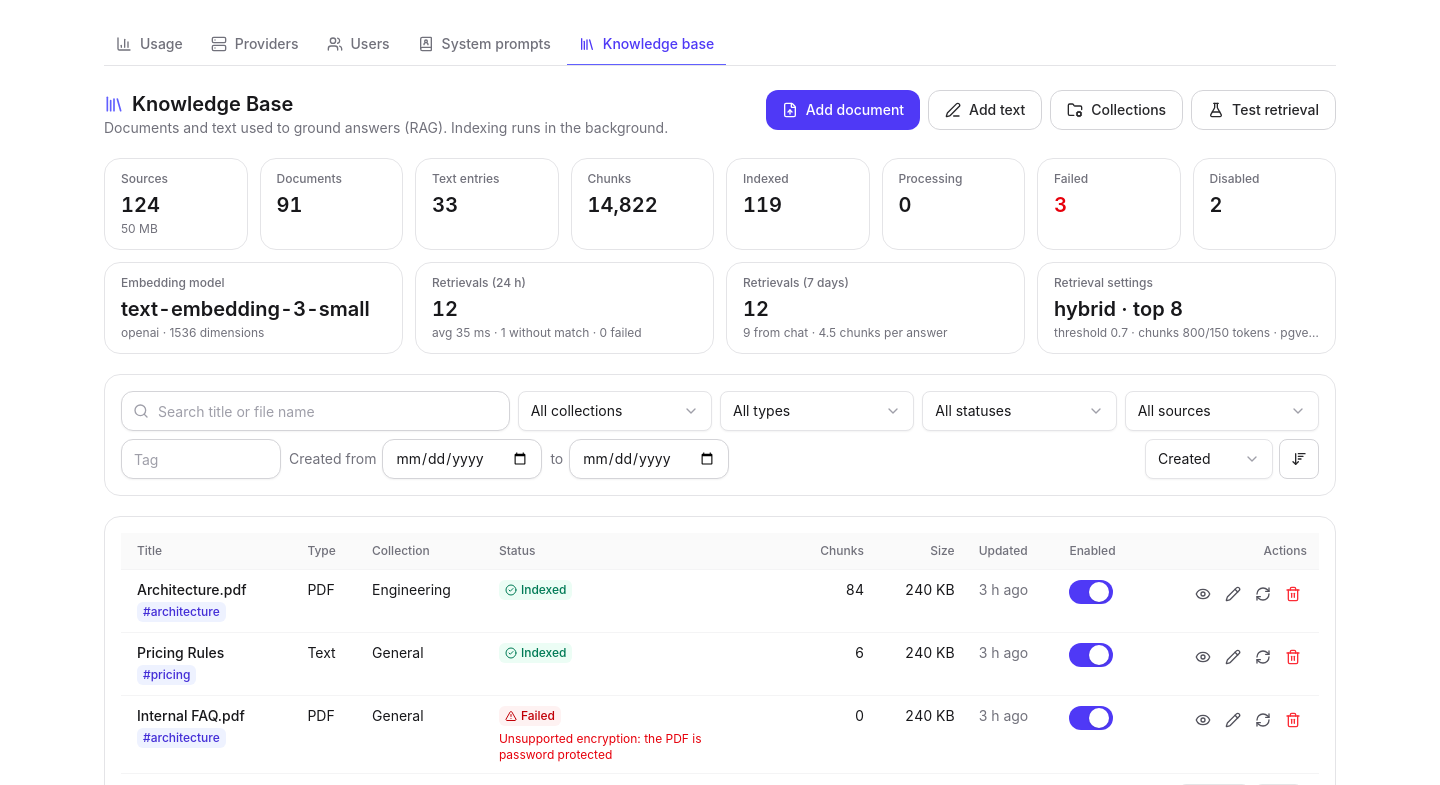
Test: KnowledgePage › asks for confirmation and shows what will be removed before deleting
The image size is (1440, 785).
Click the button named "Delete Architecture.pdf". click: [1293, 594]
box: [1279,580,1307,608]
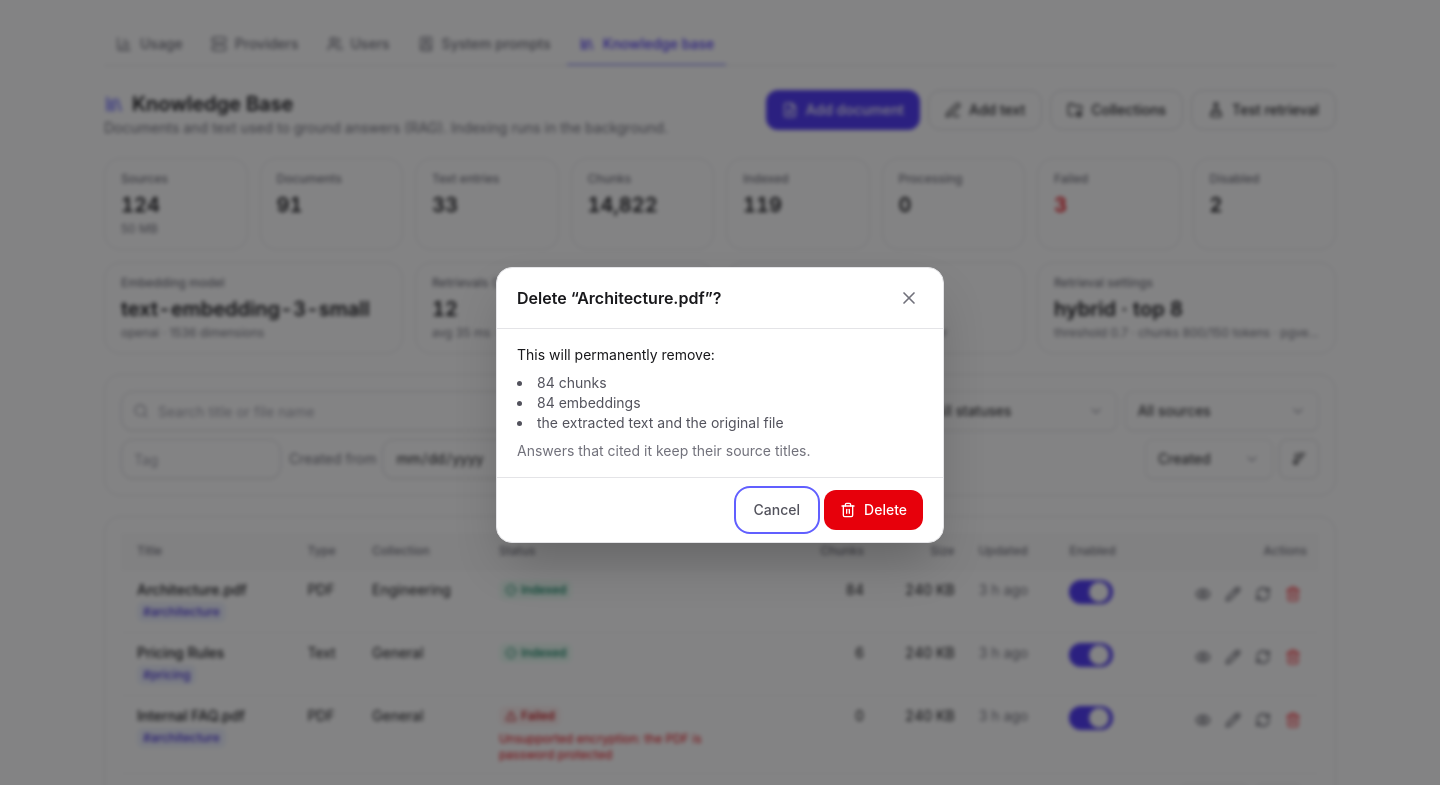
Result: the list item "84 chunks" is shown at [537,374,606,391]
Result: the list item "84 embeddings" is shown at [537,394,641,411]
Click the button "Cancel". click: [777, 510]
box: [738,490,816,530]
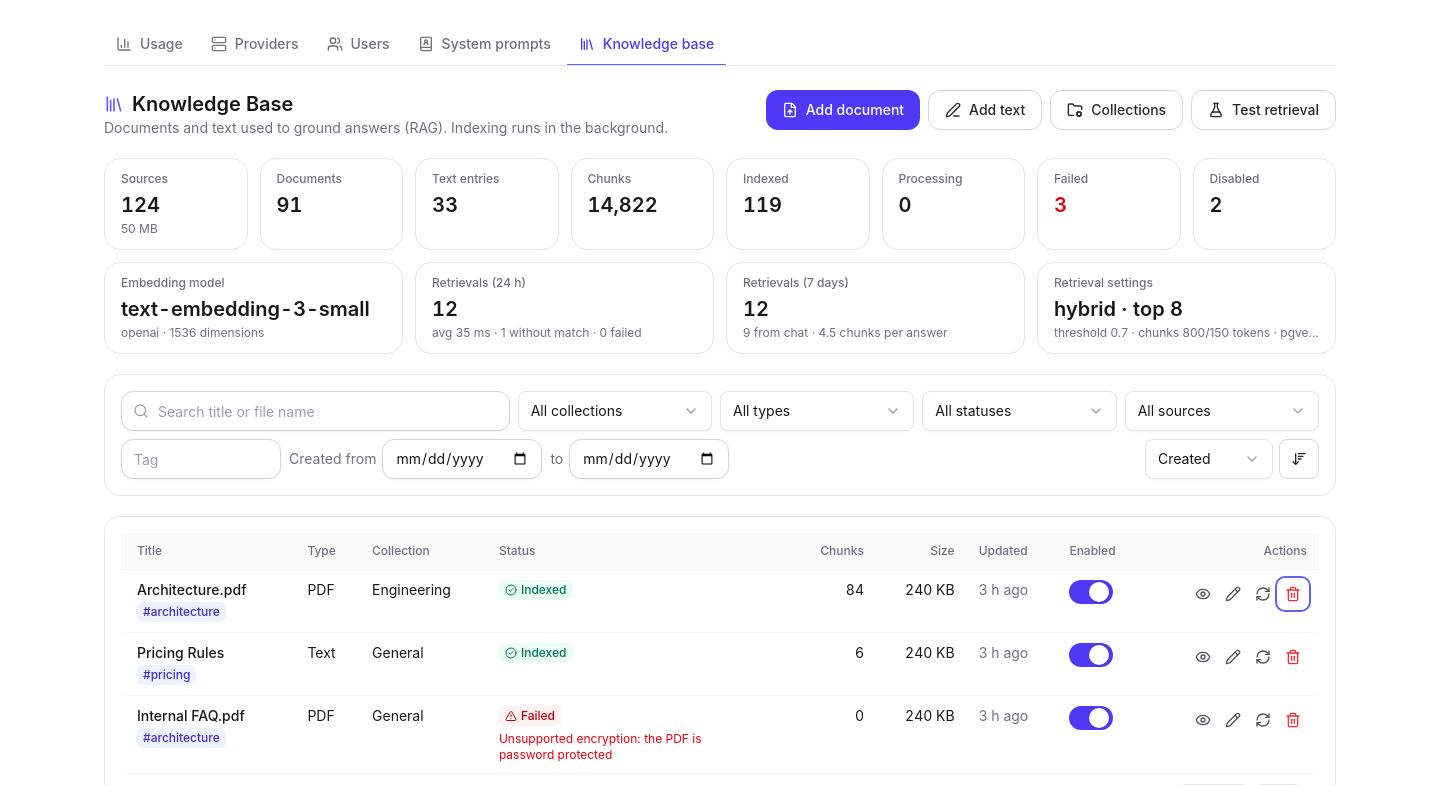
Result: the dialog is gone
Click the button named "Delete Architecture.pdf". click: [1293, 594]
box: [1279,580,1307,608]
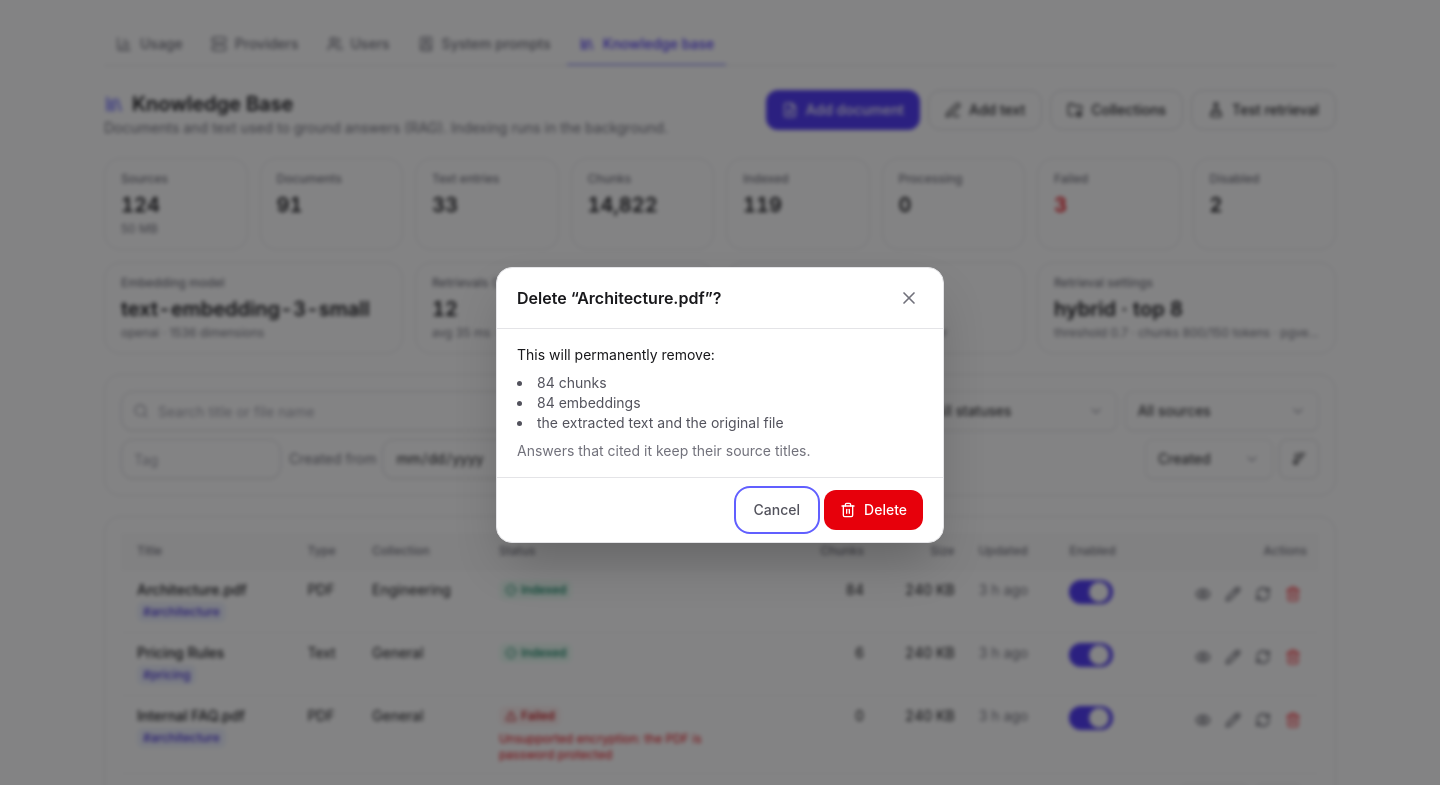
Click the button "Delete". click: [874, 510]
box: [824,490,923,530]
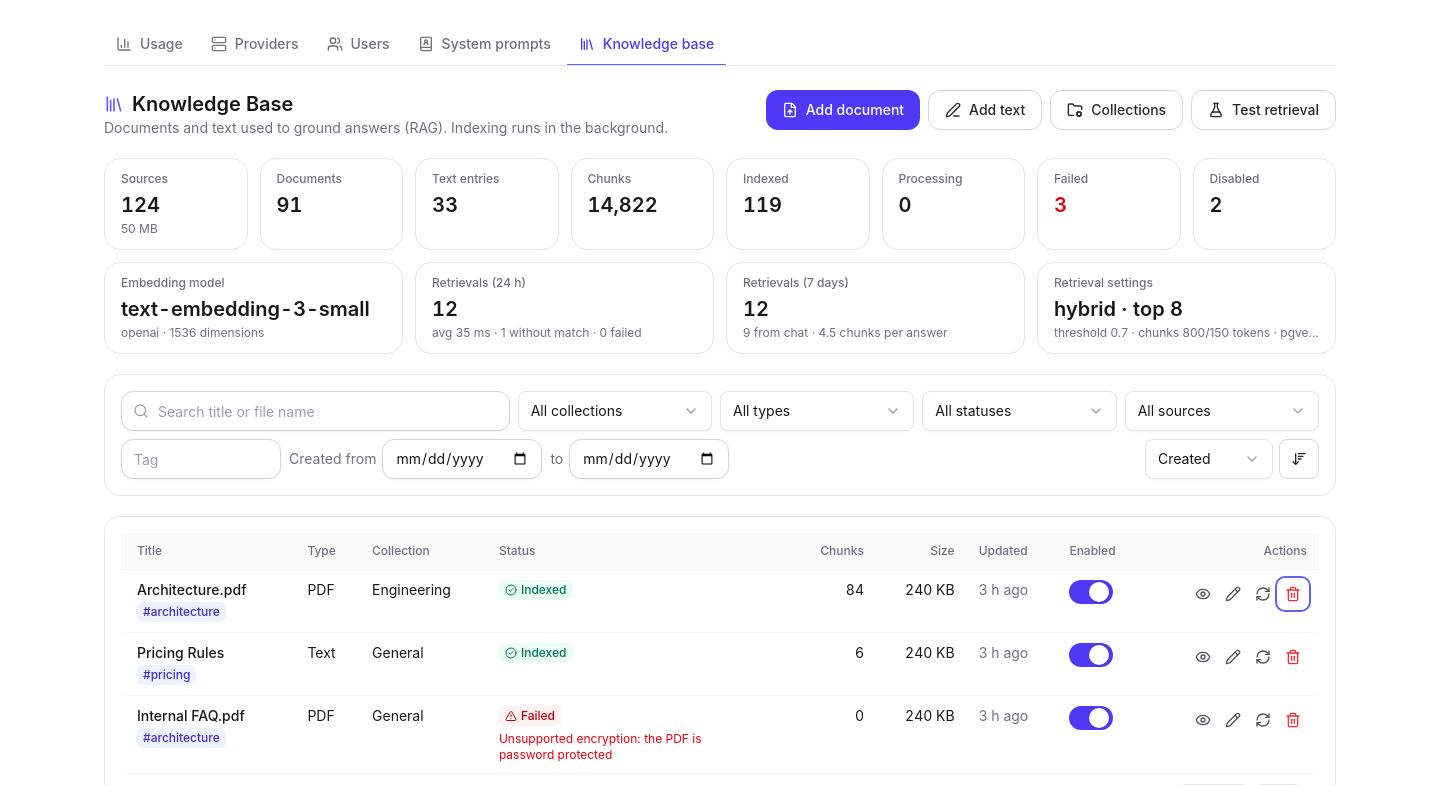
Result: the dialog is gone
